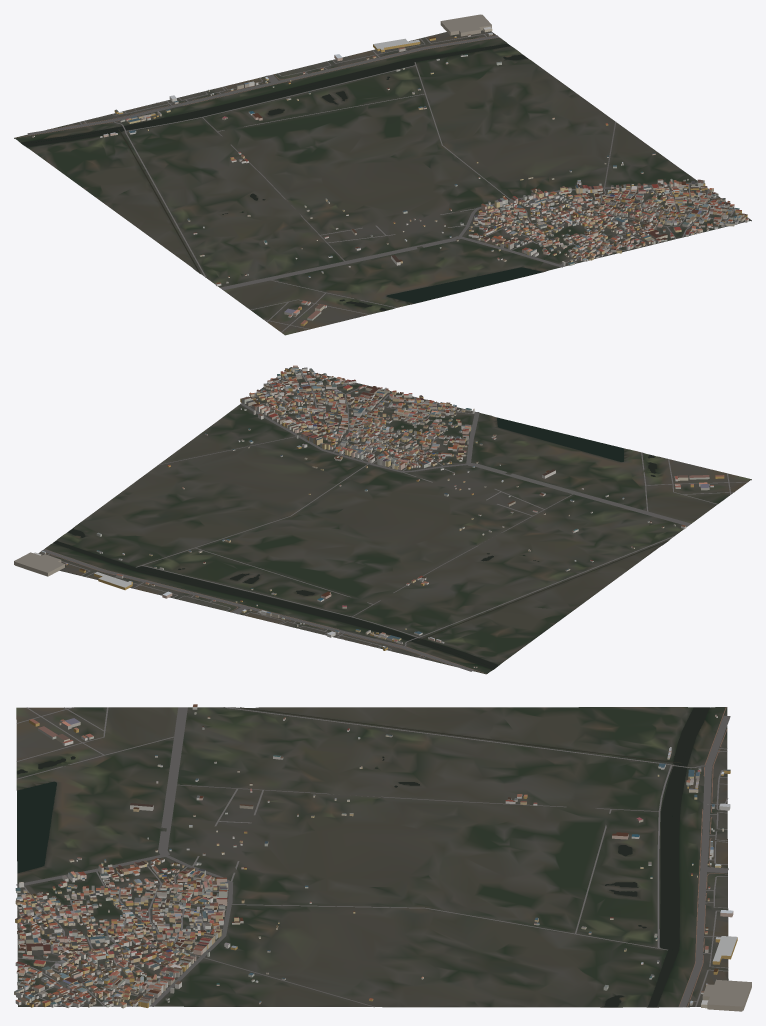
3 renders of one model, top to bottom at view 1: azimuth 30°, elevation 25°; view 2: azimuth 150°, elevation 25°; view 3: azimuth 270°, elevation 25°, orthographic. The views are drawn at different scales.
Parts seen in each view (by area): view 1: ground, buildings, roads, water; view 2: ground, buildings, roads, water; view 3: ground, buildings, roads, water.
Boxes of the visible parts, bbox=[...] form: ground: bbox=[14, 30, 751, 335]; buildings: bbox=[32, 14, 748, 326]; roads: bbox=[14, 33, 742, 332]; water: bbox=[21, 43, 542, 310]; ground: bbox=[38, 367, 751, 674]; buildings: bbox=[14, 365, 724, 667]; roads: bbox=[41, 369, 747, 674]; water: bbox=[53, 417, 668, 669]; ground: bbox=[16, 707, 728, 1007]; buildings: bbox=[14, 704, 751, 1011]; roads: bbox=[16, 707, 730, 1007]; water: bbox=[17, 707, 710, 1007].
Bounding box in the file's own units: 1420 × 24.09 × 1456.
